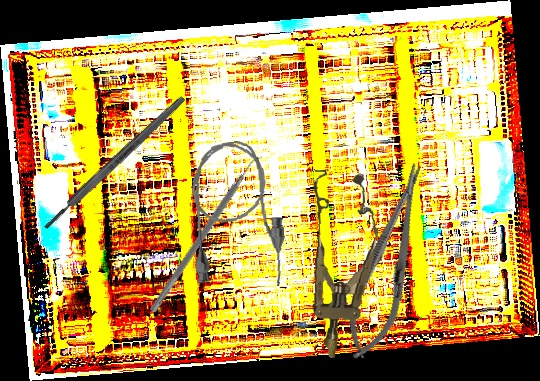Cannula: (185, 137, 289, 294)
Needle Holder: (334, 156, 443, 368)
Scalpel Handle: (41, 94, 188, 232)
Spatula Surgical: (149, 150, 266, 318)
Speculum: (296, 169, 383, 361)
